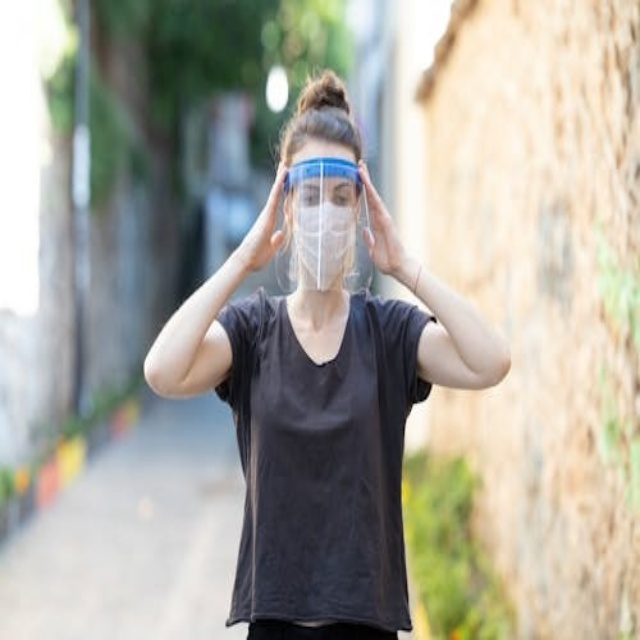Mascara: (292, 180, 357, 291)
Sin_gafas: (298, 186, 352, 213)
Sin_guantes: (356, 148, 407, 283), (242, 152, 291, 271)
